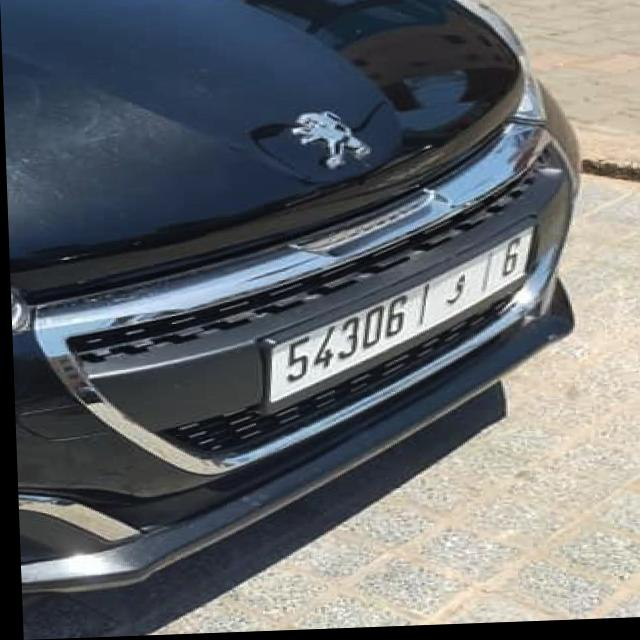License-Plate: (265, 234, 530, 403)
